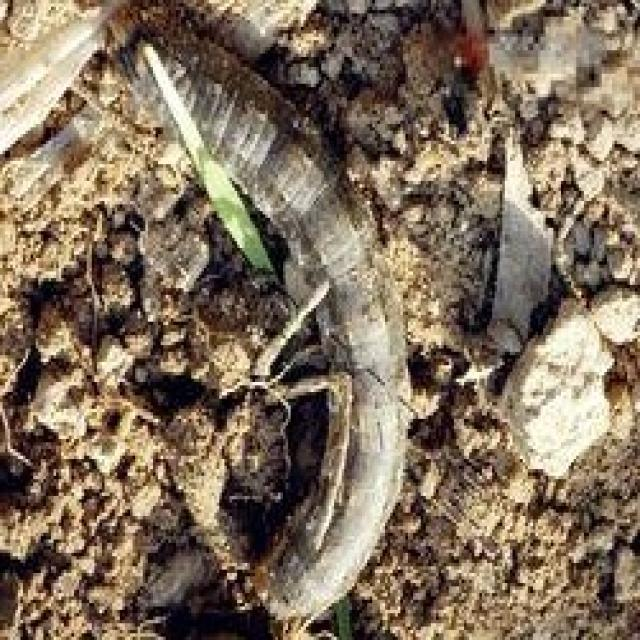black cutworm: (93, 13, 414, 626)
